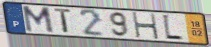2: (78, 8, 108, 38)
9: (108, 11, 131, 38)
H: (131, 11, 161, 41)
L: (161, 13, 185, 42)
M: (20, 5, 56, 35)
T: (53, 7, 73, 35)
